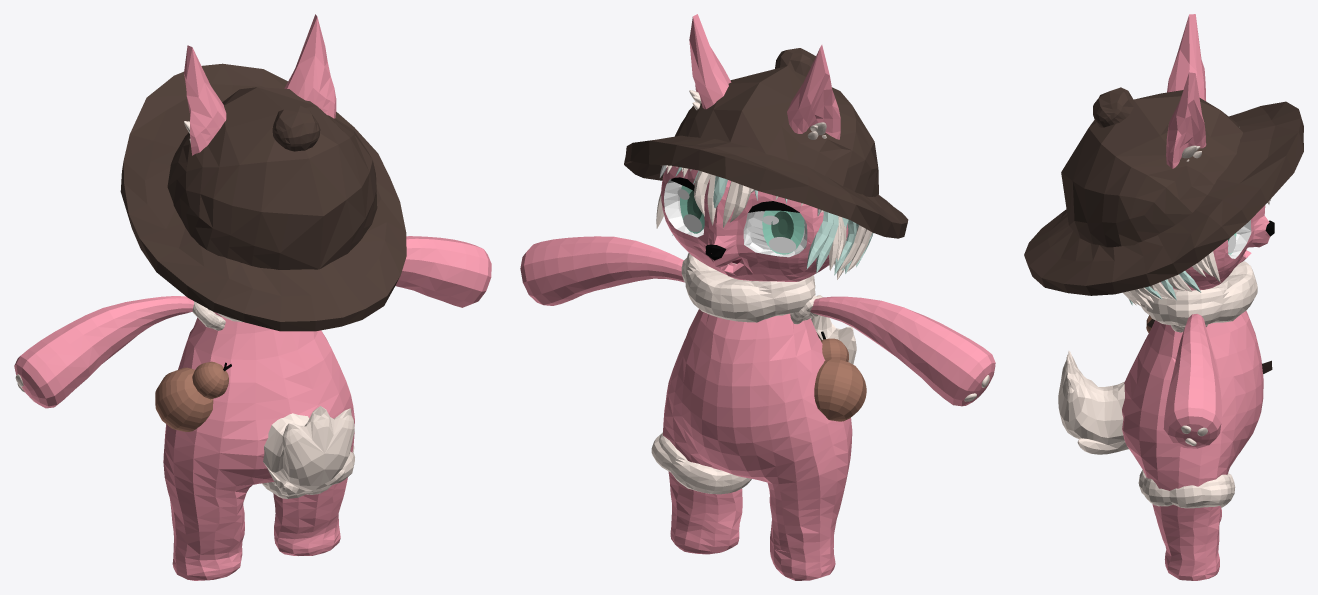
The model's file is playerv7.fbx.
3 renders of one model, left to right at view 1: azimuth 30°, elevation 25°; view 2: azimuth 150°, elevation 25°; view 3: azimuth 270°, elevation 25°, orthographic. The views are drawn at different scales.
Parts seen in each view (by area): view 1: s.0710, s.0389, s.0386, s.0734_Mirrored, s.1246, s.0734, s.0731, s.0731_Mirrored, s.1689, s.1685, s.1690, s.0737; view 2: s.0710, s.0386, s.0389, s.0734_Mirrored, s.0734, s.0728, s.0732, s.0731_Mirrored, s.1689, s.0737, s.0731, s.0730 (+5 smaller); view 3: s.0710, s.0389, s.0386, s.0734, s.1246, s.0732, s.0731, s.0737, s.0728, s.0731_Mirrored, s.1685, s.0729.
Boxes of the visible parts, left/top/right/bottom form: s.0710: left=163, top=312, right=354, bottom=580; s.0389: left=120, top=63, right=406, bottom=331; s.0386: left=167, top=87, right=377, bottom=269; s.0734_Mirrored: left=14, top=296, right=193, bottom=408; s.1246: left=263, top=406, right=354, bottom=496; s.0734: left=395, top=236, right=491, bottom=307; s.0731: left=284, top=14, right=336, bottom=118; s.0731_Mirrored: left=184, top=45, right=226, bottom=155; s.1689: left=155, top=367, right=213, bottom=431; s.1685: left=272, top=105, right=320, bottom=151; s.1690: left=192, top=361, right=228, bottom=399; s.0737: left=262, top=446, right=354, bottom=498; s.0710: left=662, top=262, right=852, bottom=580; s.0386: left=675, top=66, right=878, bottom=196; s.0389: left=624, top=135, right=908, bottom=238; s.0734_Mirrored: left=810, top=296, right=995, bottom=406; s.0734: left=520, top=236, right=684, bottom=305; s.0728: left=661, top=166, right=848, bottom=281; s.0732: left=681, top=253, right=815, bottom=322; s.0731_Mirrored: left=787, top=45, right=840, bottom=139; s.1689: left=814, top=359, right=866, bottom=421; s.0737: left=651, top=432, right=751, bottom=494; s.0731: left=689, top=14, right=731, bottom=109; s.0730: left=743, top=211, right=807, bottom=257; s.0710: left=1122, top=311, right=1263, bottom=580; s.0389: left=1024, top=101, right=1303, bottom=295; s.0386: left=1061, top=90, right=1242, bottom=247; s.0734: left=1163, top=314, right=1221, bottom=448; s.1246: left=1058, top=350, right=1128, bottom=454; s.0732: left=1140, top=261, right=1257, bottom=326; s.0731: left=1166, top=72, right=1206, bottom=168; s.0737: left=1138, top=469, right=1235, bottom=508; s.0728: left=1160, top=205, right=1270, bottom=290; s.0731_Mirrored: left=1167, top=14, right=1206, bottom=101; s.1685: left=1093, top=87, right=1133, bottom=127; s.0729: left=1228, top=220, right=1251, bottom=258.
Size of the model in its own units: 0.5018 by 0.2744 by 0.547.
14 materials, 1 textured.
